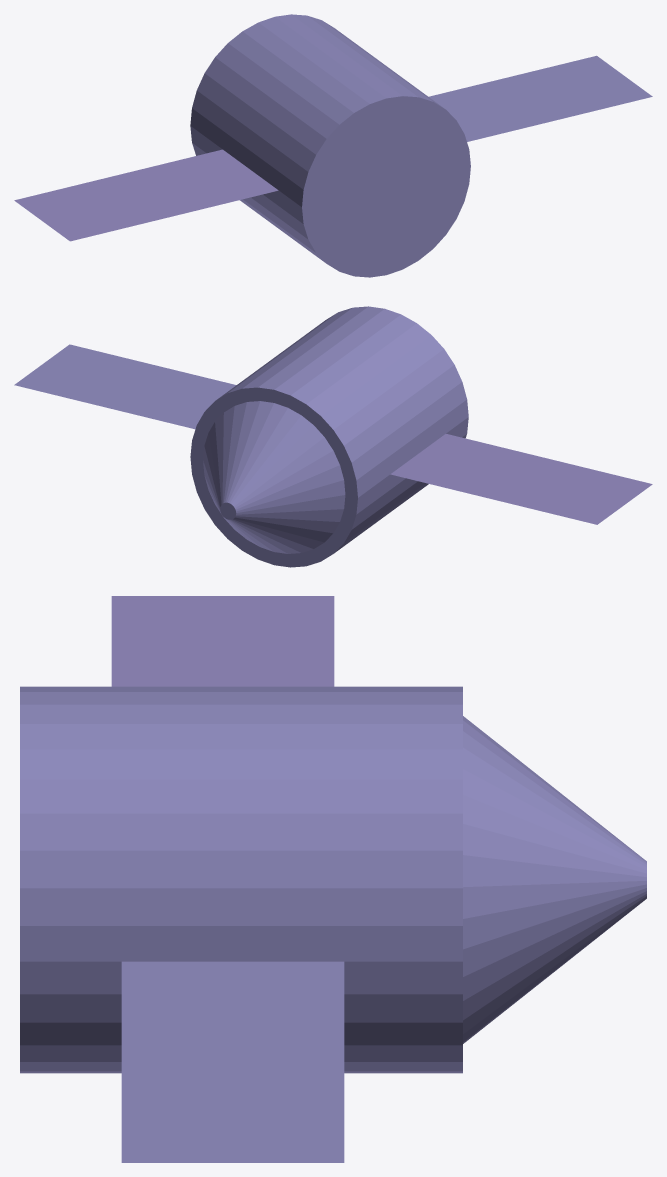
The model's file is player.glb.
3 views of the same model, one above another, from view 1: azimuth 30°, elevation 25°; view 2: azimuth 150°, elevation 25°; view 3: azimuth 270°, elevation 25° (orthographic). The views are drawn at different scales.
Visible parts, largest first — view 1: Cylinder.001; view 2: Cylinder.001; view 3: Cylinder.001.
Boxes of the visible parts, x1,y1,x2,y2 form: Cylinder.001: (14,14,652,277); Cylinder.001: (14,306,652,567); Cylinder.001: (20,596,646,1162).
Size of the model in its own units: 5.46 by 1.58 by 2.55.
